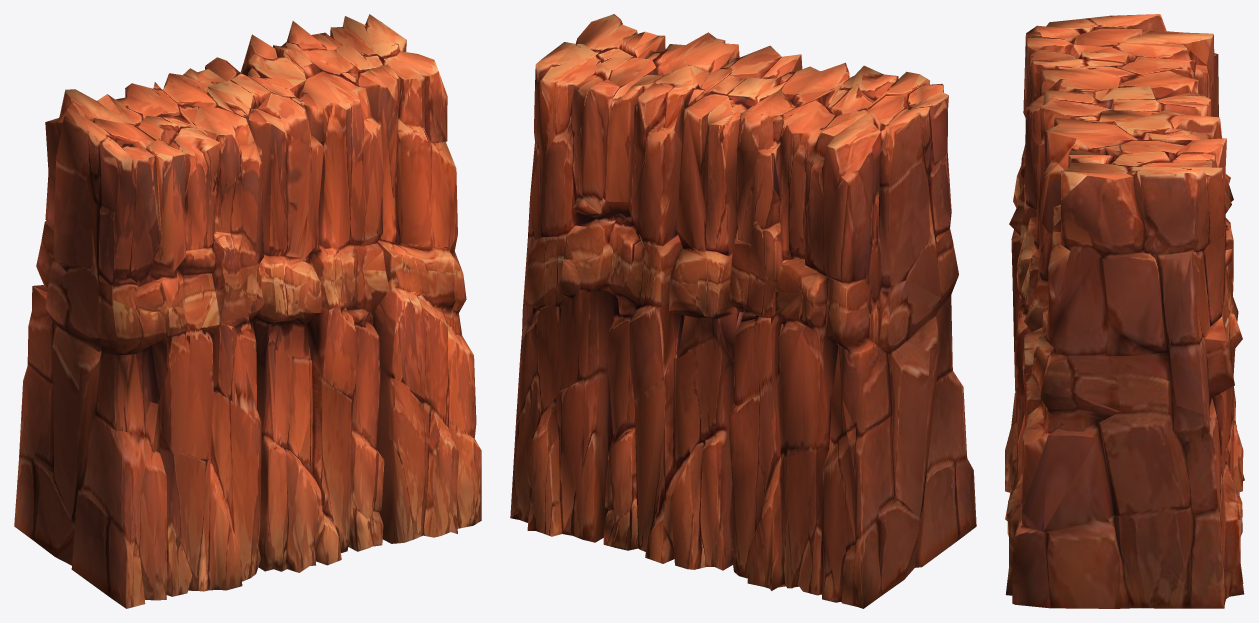
File: cliff.glb
3 renders of one model, left to right at view 1: azimuth 30°, elevation 25°; view 2: azimuth 150°, elevation 25°; view 3: azimuth 270°, elevation 25°, orthographic. The views are drawn at different scales.
Visible parts, largest first — view 1: TripoCliff_Mesh; view 2: TripoCliff_Mesh; view 3: TripoCliff_Mesh.
Part boxes in pixels (<box>): TripoCliff_Mesh: <box>14,14,481,608</box>; TripoCliff_Mesh: <box>510,14,976,608</box>; TripoCliff_Mesh: <box>1005,14,1244,608</box>.
Bounding box in the file's own units: 5 × 6 × 3.
Materials: 1 (1 with a texture image).
